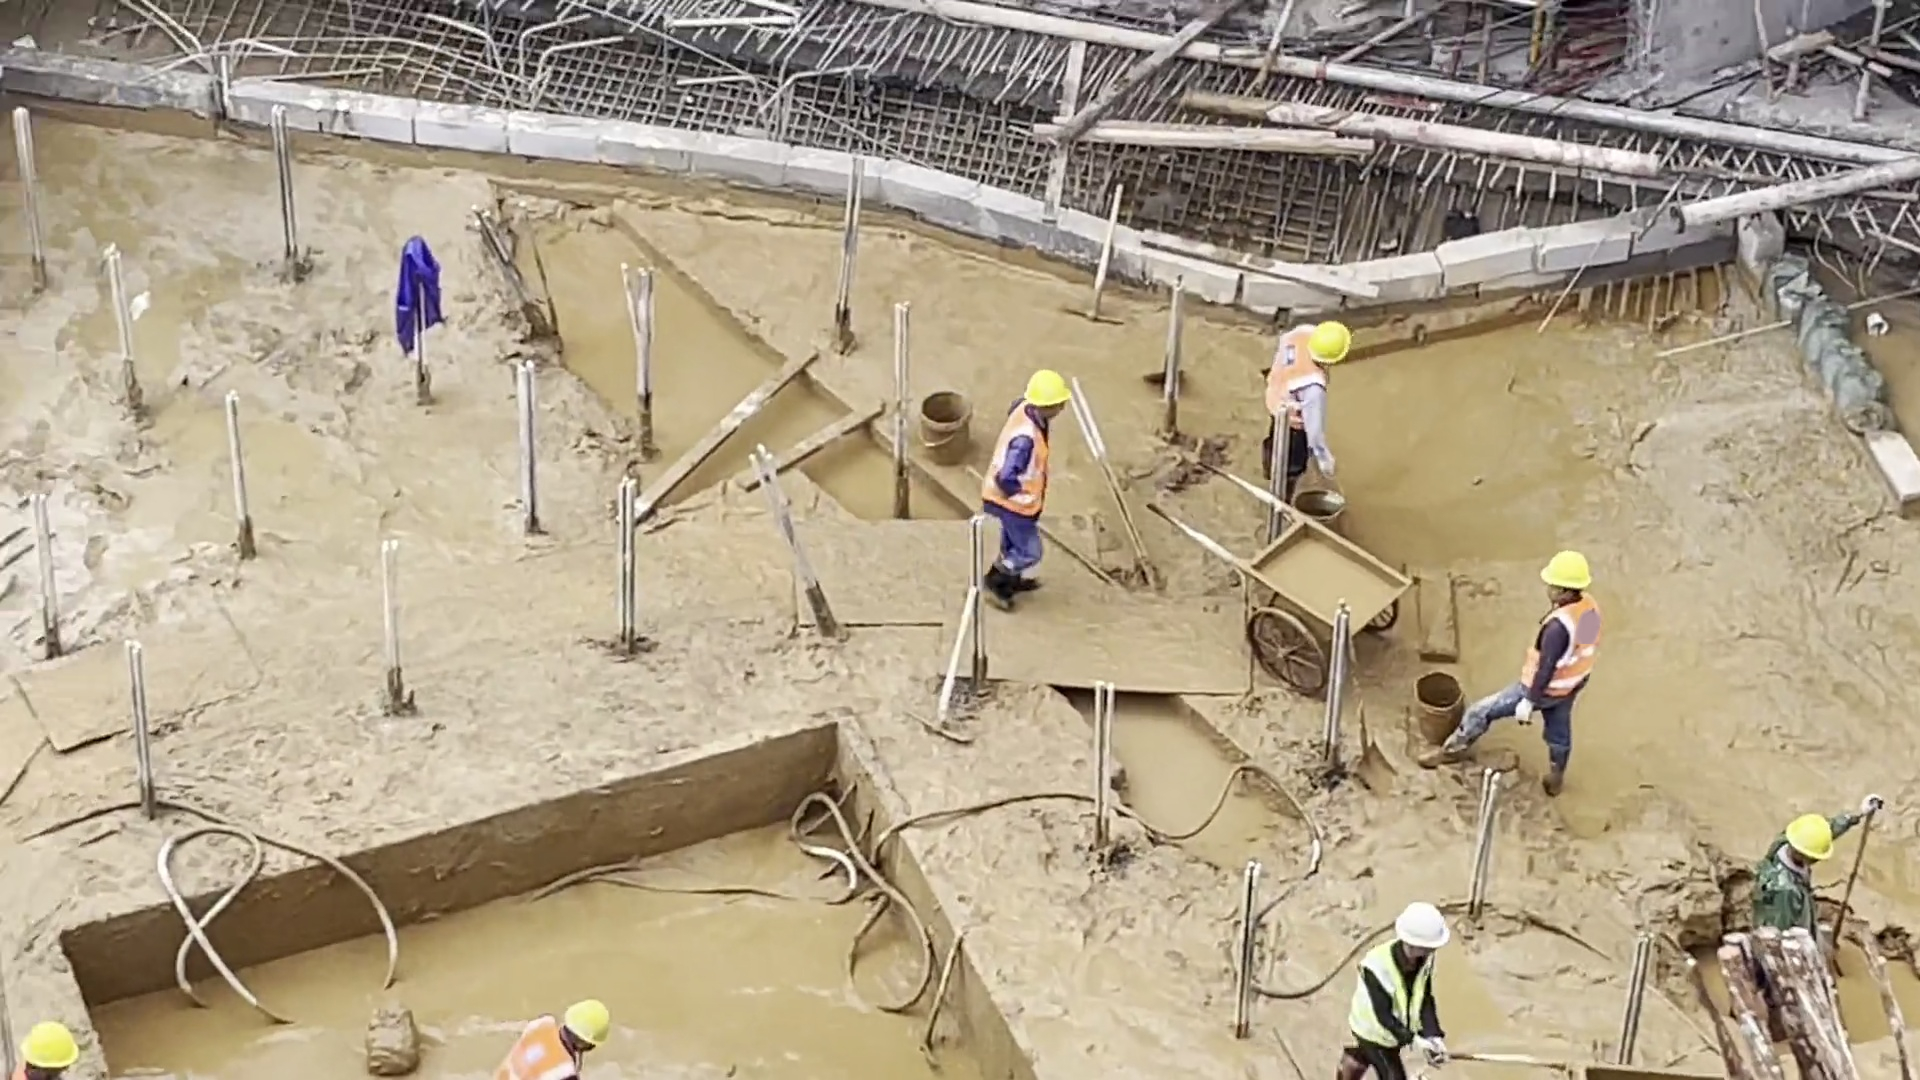helmet: (24, 1016, 78, 1070), (1784, 812, 1835, 861), (1395, 902, 1449, 946), (1540, 548, 1593, 592), (564, 996, 608, 1048), (1304, 319, 1352, 365), (1024, 369, 1072, 407)
person: (1418, 554, 1606, 794), (978, 365, 1073, 606), (1337, 901, 1462, 1080), (1753, 796, 1884, 934), (1260, 317, 1355, 488), (499, 999, 622, 1080), (11, 1016, 85, 1080)
vest: (1517, 596, 1613, 697), (1348, 945, 1444, 1046), (1517, 596, 1604, 703), (1266, 321, 1335, 434), (986, 394, 1046, 521), (1264, 336, 1331, 428), (500, 1014, 583, 1079)
